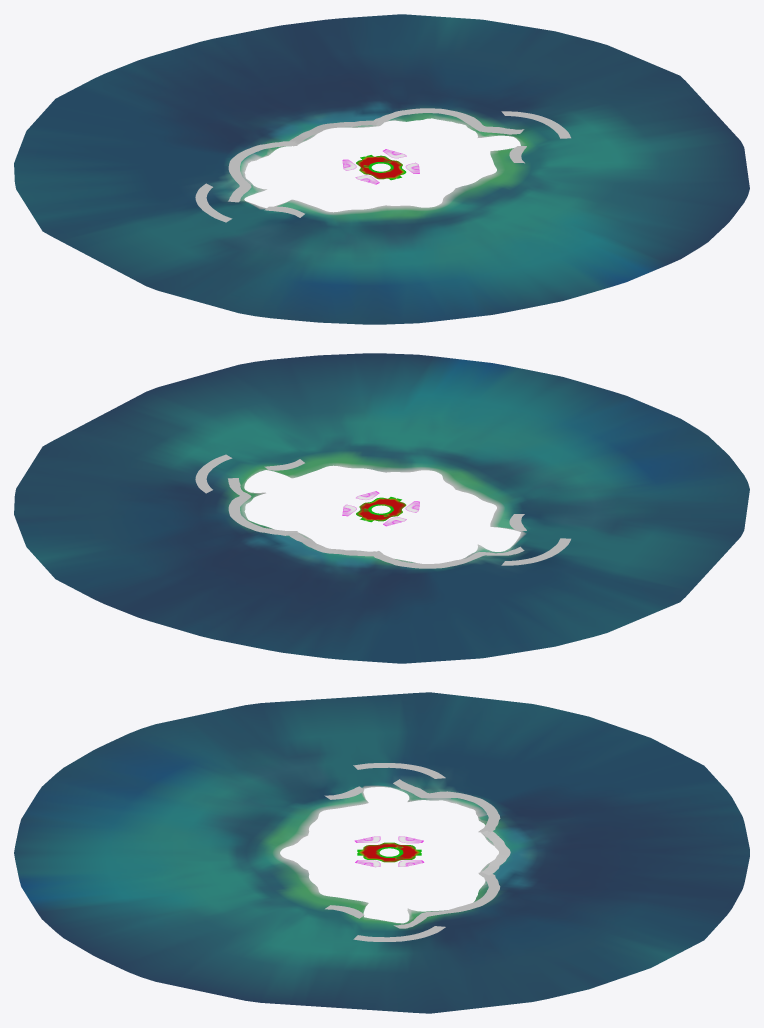
The model's file is pref_VFX_Water_beta_01.fbx.
3 renders of one model, top to bottom at view 1: azimuth 30°, elevation 25°; view 2: azimuth 150°, elevation 25°; view 3: azimuth 270°, elevation 25°, orthographic. The views are drawn at different scales.
Visible parts, largest first — view 1: pref_sm_beach_tech_hunt_003_sea01_lv3, pref_sm_beach_tech_hunt_003_sealine_lv3, pref_sm_beach_techunderwater01_lv3; view 2: pref_sm_beach_tech_hunt_003_sea01_lv3, pref_sm_beach_tech_hunt_003_sealine_lv3, pref_sm_beach_techunderwater01_lv3; view 3: pref_sm_beach_tech_hunt_003_sea01_lv3, pref_sm_beach_tech_hunt_003_sealine_lv3, pref_sm_beach_techunderwater01_lv3.
Boxes of the visible parts, x1=… form: pref_sm_beach_tech_hunt_003_sea01_lv3: x1=14, y1=14, x2=749, y2=324; pref_sm_beach_tech_hunt_003_sealine_lv3: x1=195, y1=108, x2=570, y2=222; pref_sm_beach_techunderwater01_lv3: x1=356, y1=155, x2=406, y2=180; pref_sm_beach_tech_hunt_003_sea01_lv3: x1=14, y1=353, x2=749, y2=663; pref_sm_beach_tech_hunt_003_sealine_lv3: x1=195, y1=454, x2=570, y2=568; pref_sm_beach_techunderwater01_lv3: x1=356, y1=497, x2=406, y2=522; pref_sm_beach_tech_hunt_003_sea01_lv3: x1=14, y1=692, x2=749, y2=1013; pref_sm_beach_tech_hunt_003_sealine_lv3: x1=324, y1=763, x2=510, y2=941; pref_sm_beach_techunderwater01_lv3: x1=357, y1=842, x2=421, y2=862.
Bounding box in the file's own units: 397 × 3.69 × 384.
